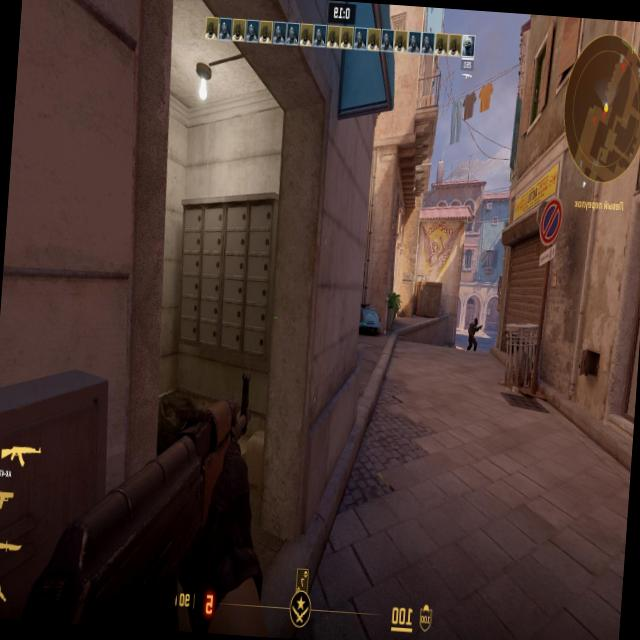CT: (467, 319, 478, 348)
CT_heat: (472, 321, 474, 328)
